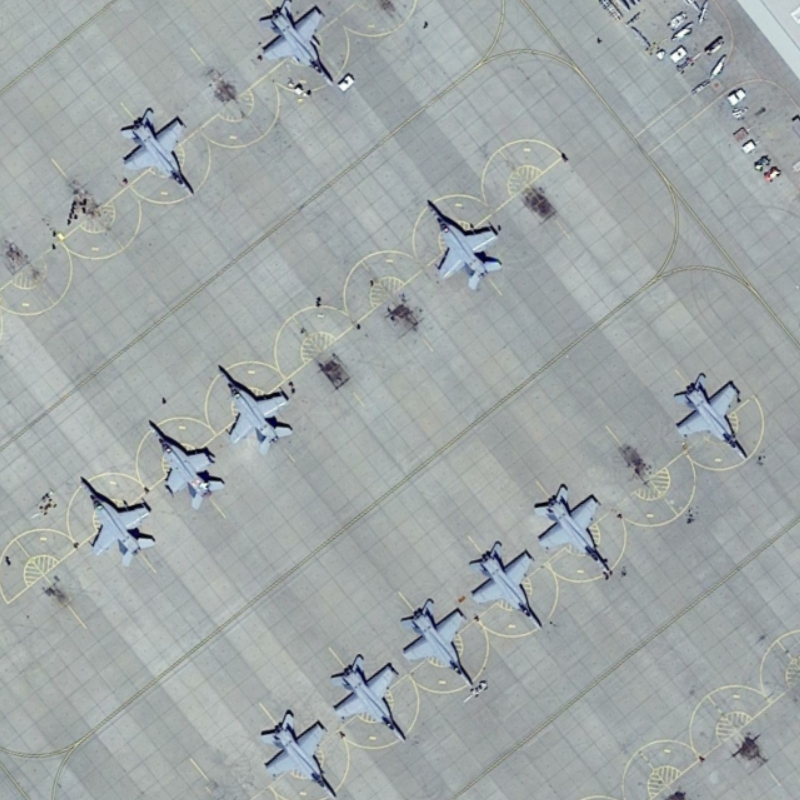A16: (323, 644, 416, 748), (531, 478, 625, 579), (464, 534, 554, 637), (115, 100, 203, 205), (140, 413, 232, 513), (666, 366, 757, 466), (421, 194, 509, 296), (73, 474, 164, 572), (395, 590, 479, 693), (253, 705, 343, 800), (212, 361, 299, 457), (253, 1, 341, 92)
